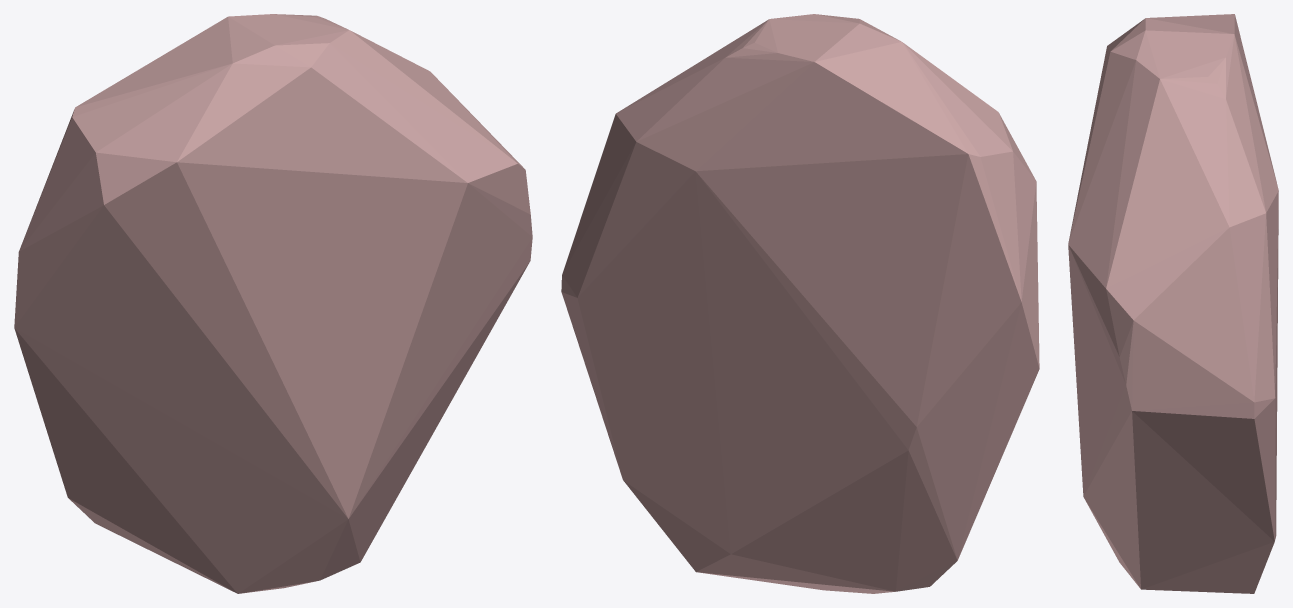
The model's file is food_prepared_bagel_b01.glb.
The picture shows the model from 3 angles, left to right: view 1: azimuth 30°, elevation 25°; view 2: azimuth 150°, elevation 25°; view 3: azimuth 270°, elevation 25°; orthographic projection. The views are drawn at different scales.
Visible parts, largest first — view 1: geometry_0; view 2: geometry_0; view 3: geometry_0.
Boxes of the visible parts, left/top/right/bottom form: geometry_0: left=14, top=14, right=532, bottom=593; geometry_0: left=561, top=14, right=1039, bottom=593; geometry_0: left=1068, top=14, right=1278, bottom=593.
Bounding box in the file's own units: 0.421 × 0.4793 × 0.1691.
